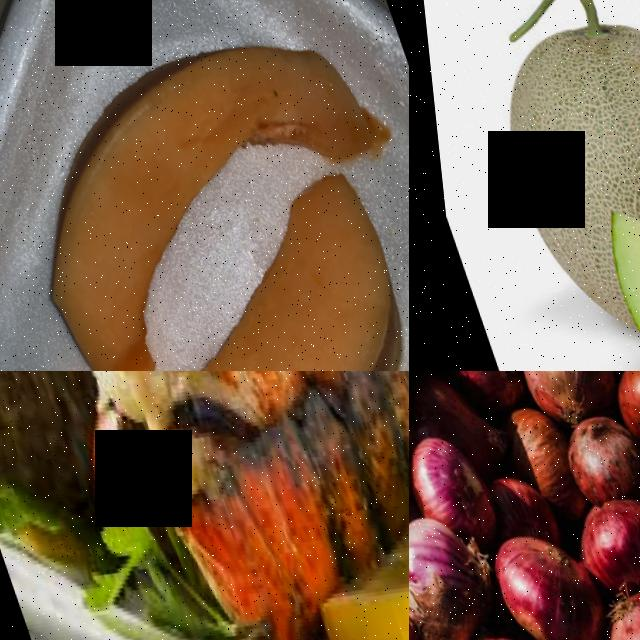lobster tails: (20, 371, 409, 585)
melon: (0, 166, 333, 371), (445, 0, 640, 260)
onion: (479, 512, 603, 640), (409, 497, 499, 640), (547, 388, 640, 499), (553, 464, 640, 581), (409, 411, 490, 526), (504, 371, 617, 415), (577, 563, 640, 640), (430, 371, 532, 407), (606, 371, 640, 463)
